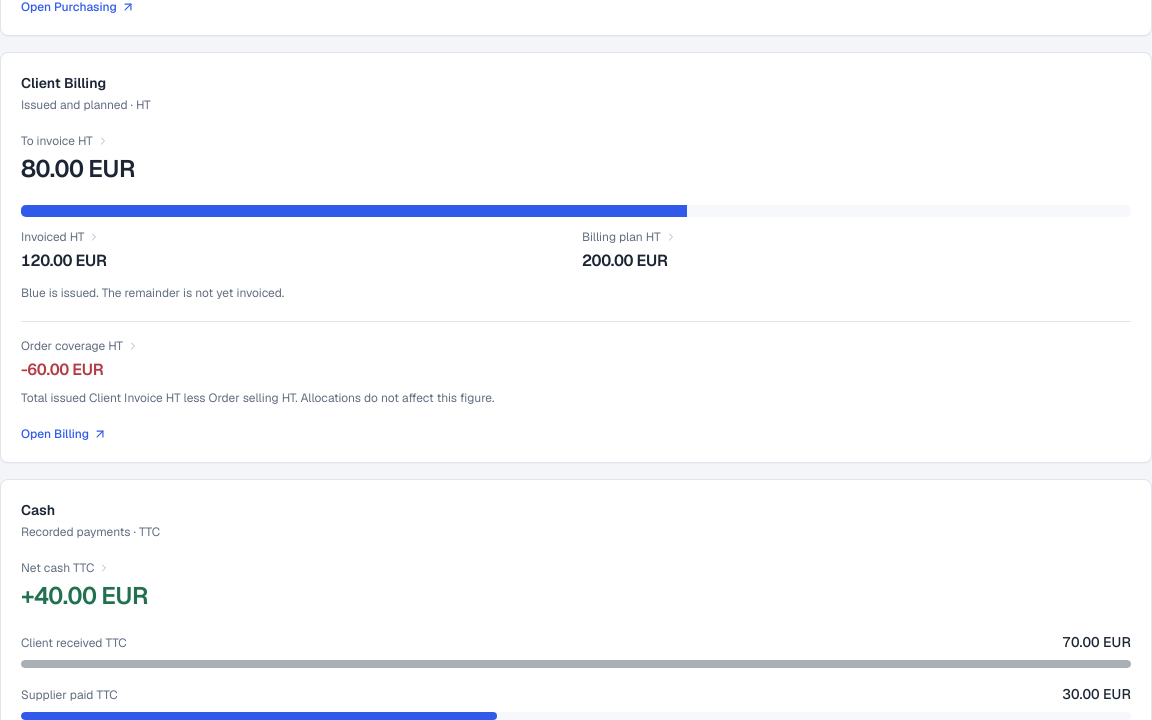
explains invoice coverage and shows full Invoice HT less Order sell in its drawer
This screenshot has width=1152, height=720.
(page scrolled)
Click the button "Order coverage HT -60.00 EUR" at x=80, y=360, box [21, 338, 139, 382]
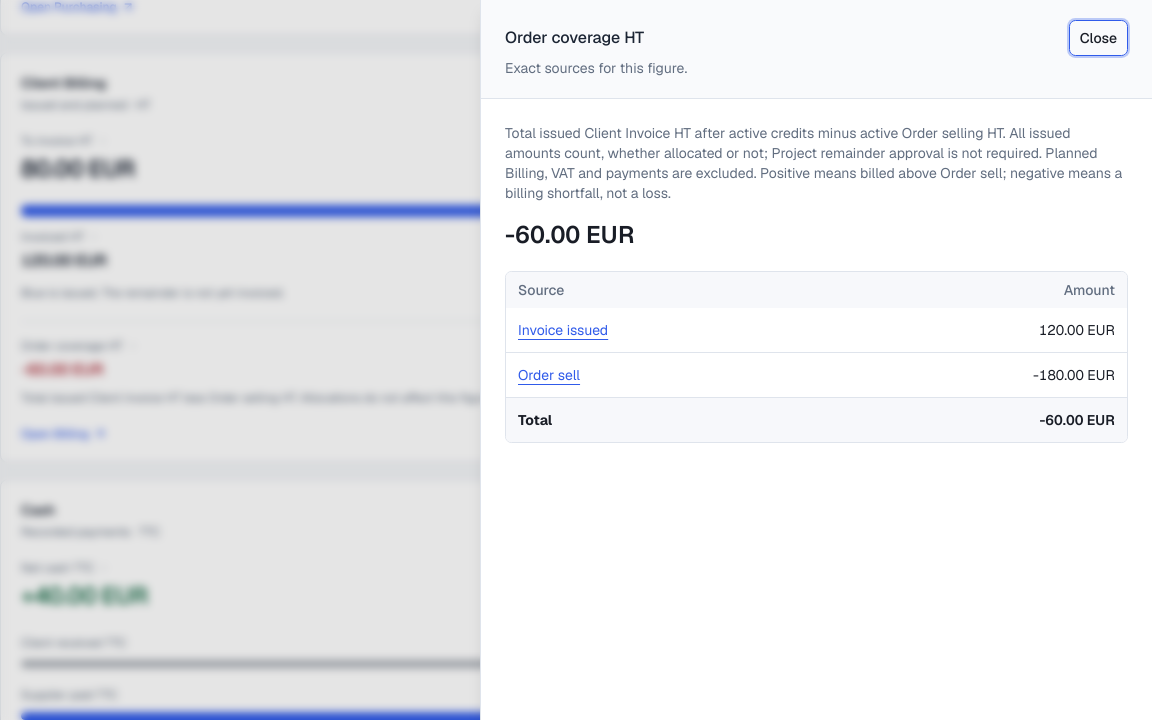
Now the dialog shows "Invoice issued", box [518, 321, 608, 339]
Now the dialog shows "120.00 EUR", box [1039, 321, 1115, 339]
Now the dialog shows "-180.00 EUR", box [1033, 366, 1115, 384]
